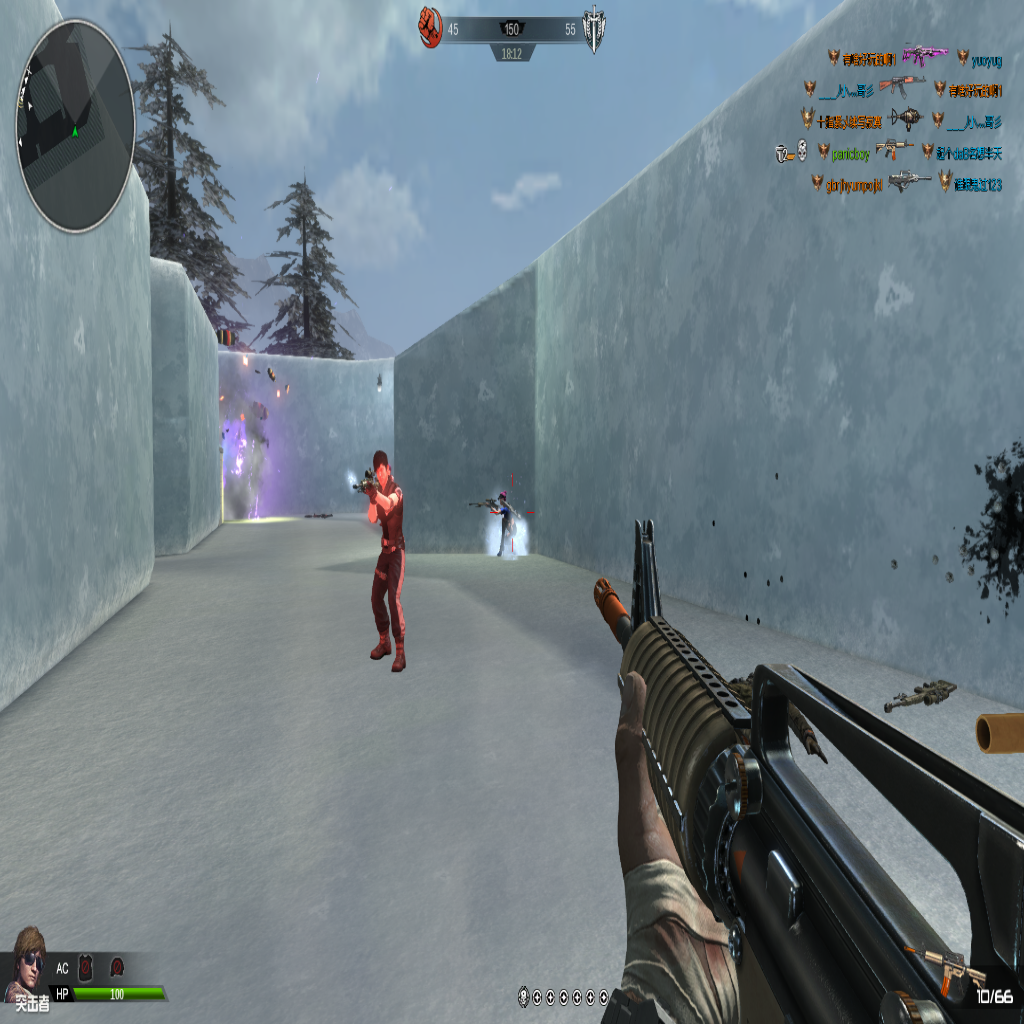ct: (357, 455, 406, 665), (475, 485, 525, 560)
